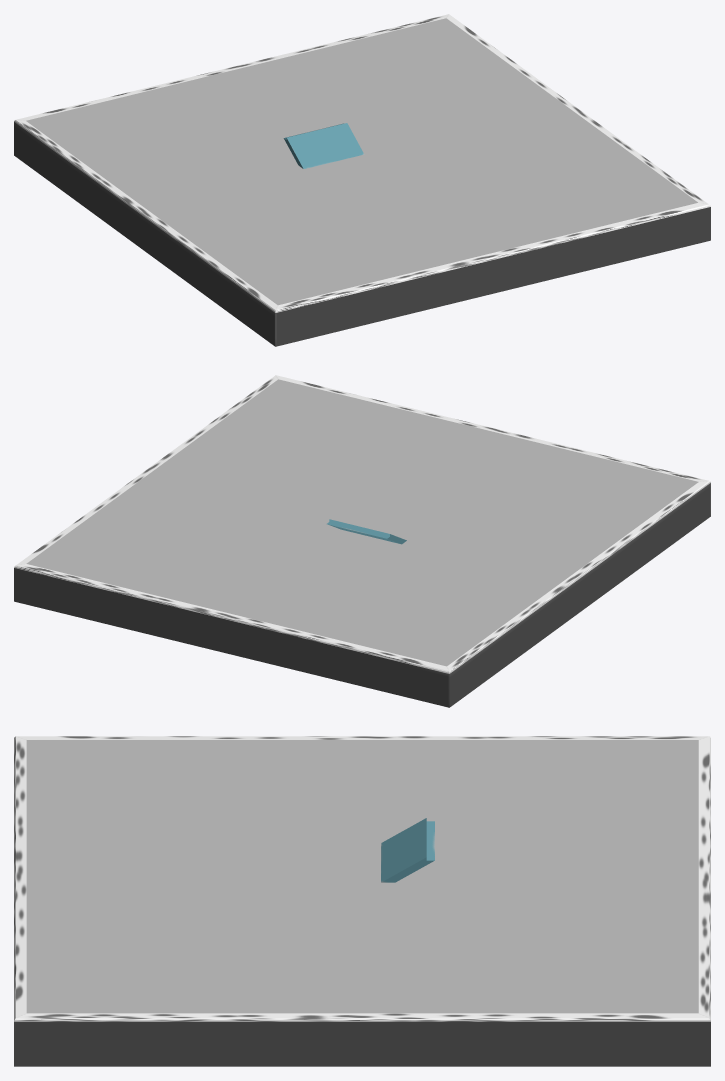
File: LevelFromCSG.gltf
3 views of the same model, one above another, from view 1: azimuth 30°, elevation 25°; view 2: azimuth 150°, elevation 25°; view 3: azimuth 270°, elevation 25° (orthographic). The views are drawn at different scales.
Visible parts, largest first — view 1: Base-cube-col; view 2: Base-cube-col; view 3: Base-cube-col.
Part boxes in pixels (<box>): Base-cube-col: <box>14,14,710,346</box>; Base-cube-col: <box>14,375,710,707</box>; Base-cube-col: <box>14,736,710,1066</box>.
Size of the model in its own units: 13.98 by 1.7 by 14.54.
1 material, 1 textured.
